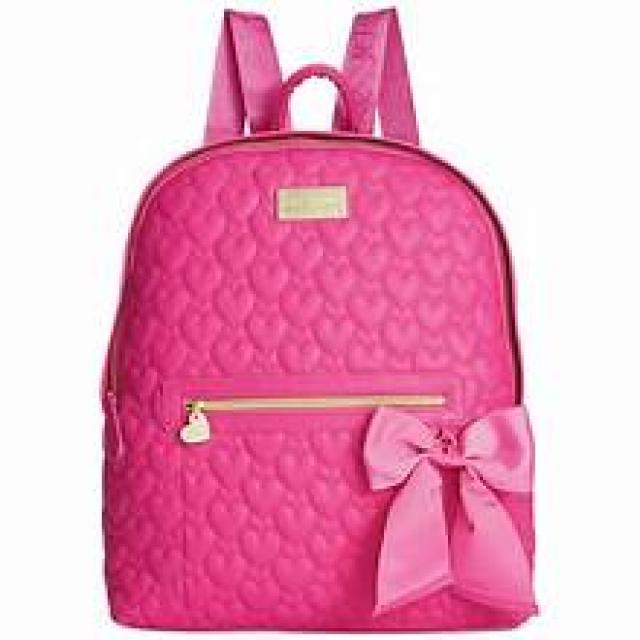backpack: (97, 4, 539, 632)
